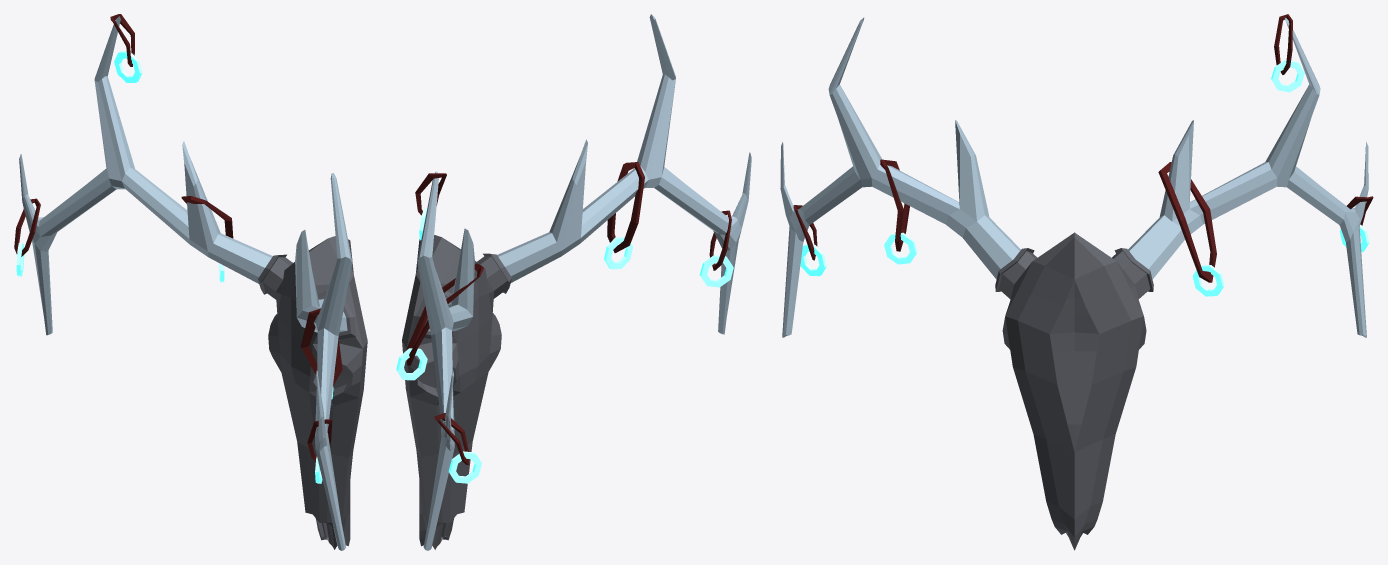
The model's file is Skull.fbx.
3 renders of one model, left to right at view 1: azimuth 30°, elevation 25°; view 2: azimuth 150°, elevation 25°; view 3: azimuth 270°, elevation 25°, orthographic.
Visible parts, largest first — view 1: Decor_Skull.001; view 2: Decor_Skull.001; view 3: Decor_Skull.001.
Boxes of the visible parts, box(x1,y1,x2,y2) form: Decor_Skull.001: box(14, 14, 367, 550); Decor_Skull.001: box(396, 14, 751, 550); Decor_Skull.001: box(780, 14, 1373, 550).
Bounding box in the file's own units: 1.85 × 4.3 × 4.87.
